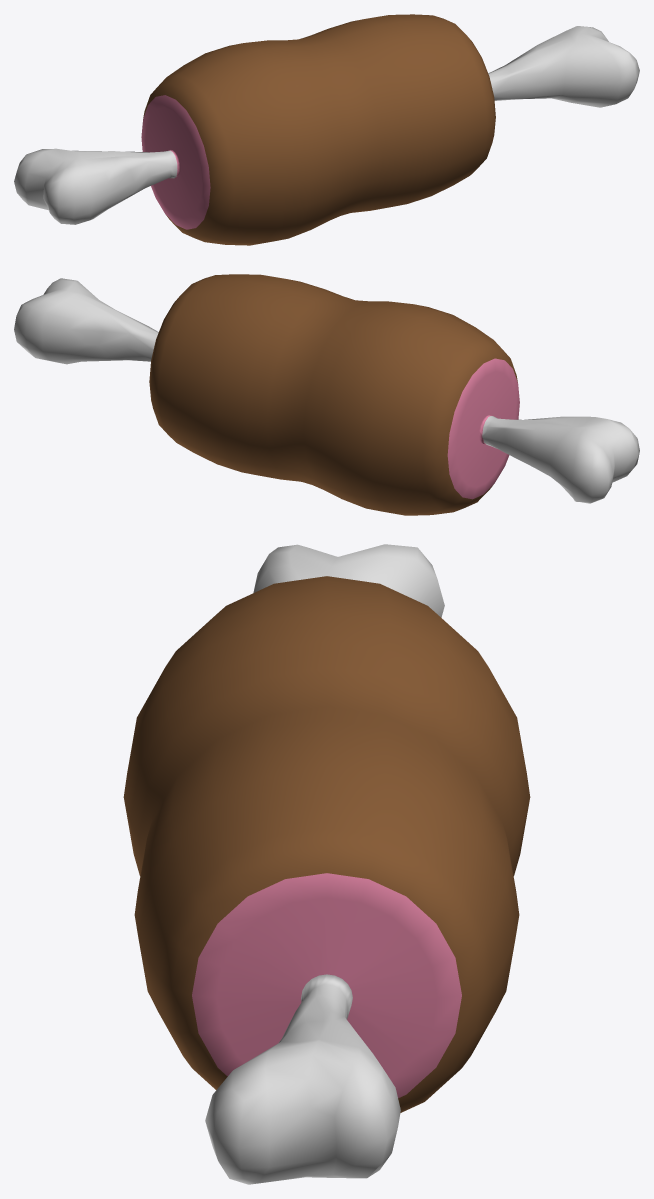
File: meat.fbx
3 renders of one model, top to bottom at view 1: azimuth 30°, elevation 25°; view 2: azimuth 150°, elevation 25°; view 3: azimuth 270°, elevation 25°, orthographic. The views are drawn at different scales.
Parts seen in each view (by area): view 1: meat_bone; view 2: meat_bone; view 3: meat_bone.
Boxes of the visible parts, <box> form: meat_bone: <box>14,14,639,245</box>; meat_bone: <box>14,274,639,515</box>; meat_bone: <box>123,544,530,1184</box>.
Size of the model in its own units: 20.62 by 6.23 by 6.23.
